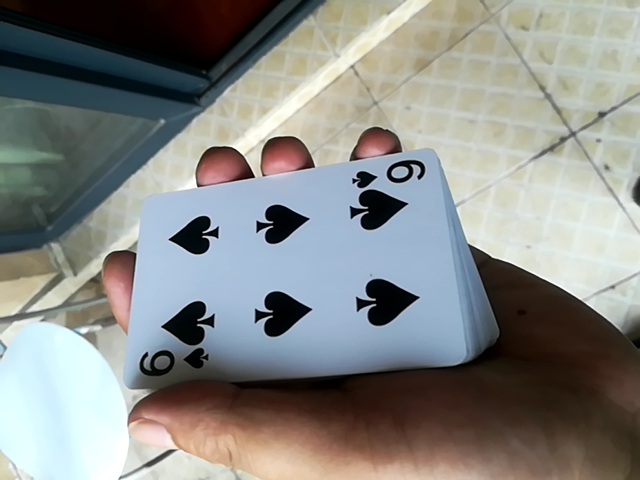ht 6: (125, 129, 465, 382)
